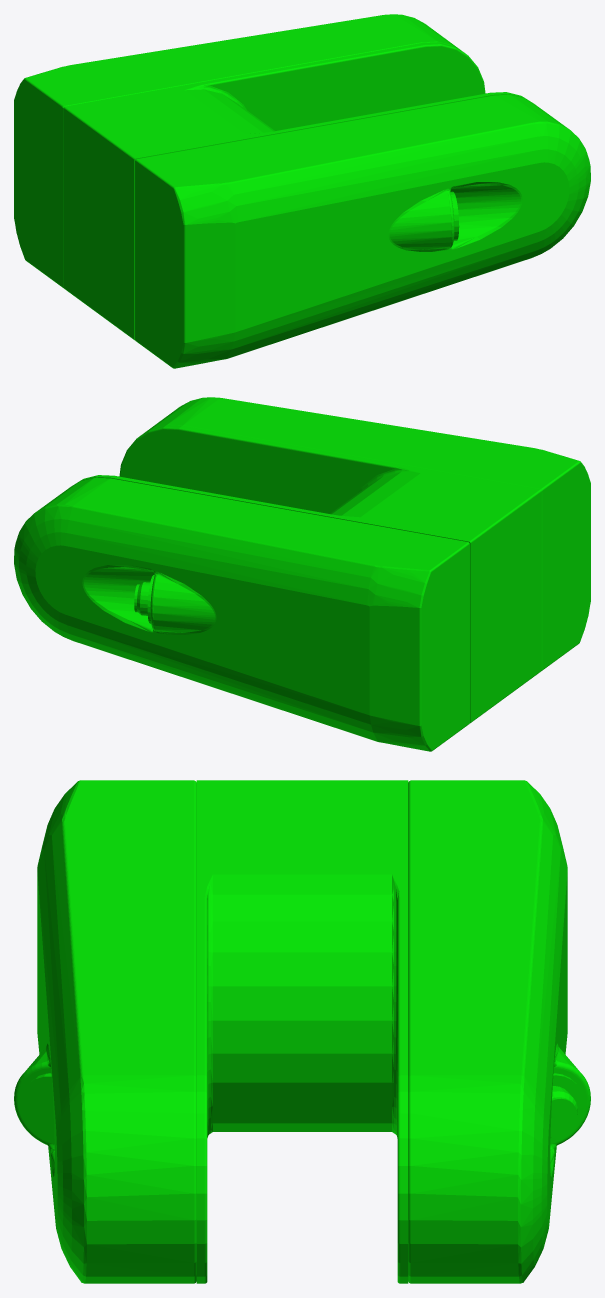
3 renders of one model, top to bottom at view 1: azimuth 30°, elevation 25°; view 2: azimuth 150°, elevation 25°; view 3: azimuth 270°, elevation 25°, orthographic. The views are drawn at different scales.
Parts seen in each view (by area): view 1: link4; view 2: link4; view 3: link4.
Boxes of the visible parts, bbox=[...] form: link4: bbox=[14, 14, 590, 368]; link4: bbox=[14, 397, 590, 751]; link4: bbox=[14, 780, 590, 1283].
Size of the model in its own units: 0.266 by 0.2126 by 0.1103.
